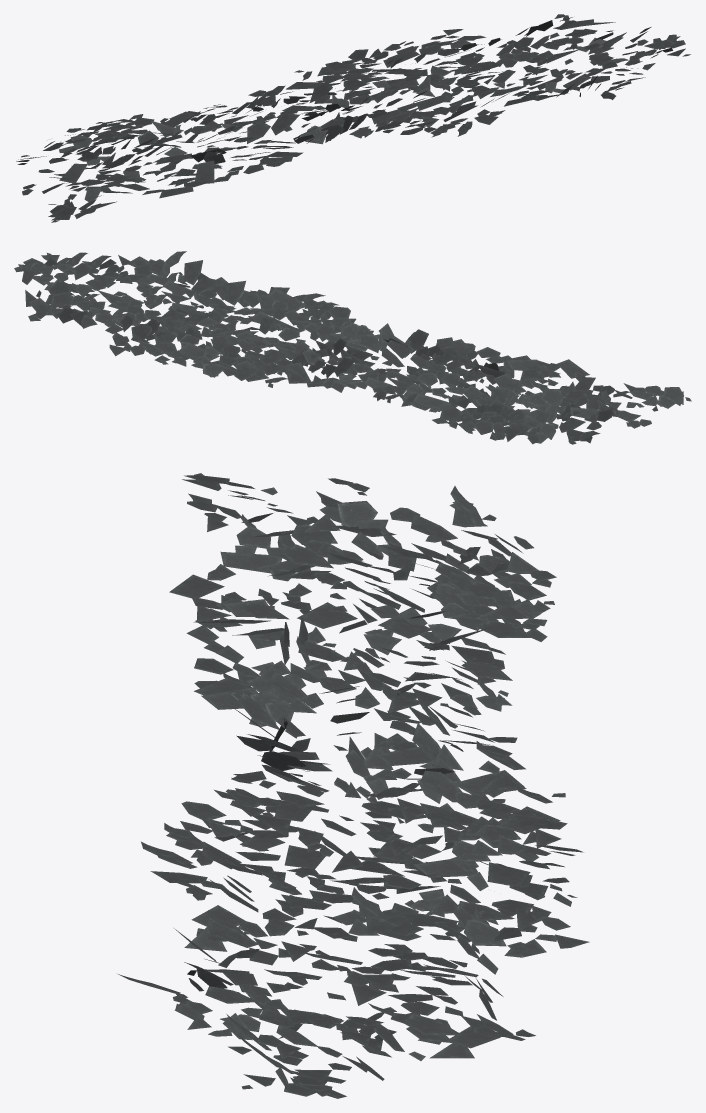
The model's file is Ice_Stacks_003.fbx.
3 renders of one model, top to bottom at view 1: azimuth 30°, elevation 25°; view 2: azimuth 150°, elevation 25°; view 3: azimuth 270°, elevation 25°, orthographic. The views are drawn at different scales.
Visible parts, largest first — view 1: Ice_Stacks_003_LOD0; view 2: Ice_Stacks_003_LOD0; view 3: Ice_Stacks_003_LOD0.
Part boxes in pixels (x1=…): Ice_Stacks_003_LOD0: x1=16, y1=14, x2=690, y2=222; Ice_Stacks_003_LOD0: x1=14, y1=251, x2=691, y2=444; Ice_Stacks_003_LOD0: x1=118, y1=473, x2=589, y2=1098.
Size of what is drawn, in the model's own units: 82.79 by 2.4 by 26.41.
